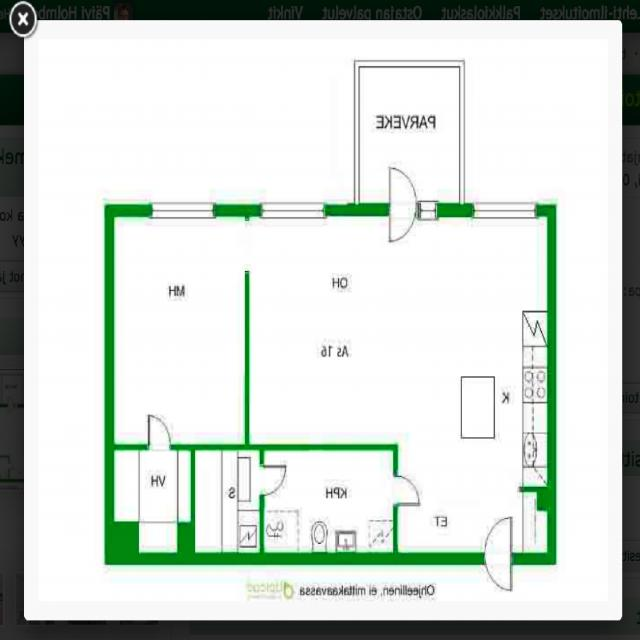door: (485, 553, 512, 602), (390, 204, 417, 252), (485, 518, 512, 566), (390, 169, 417, 216), (259, 466, 287, 495), (394, 476, 421, 506), (149, 416, 171, 450)
